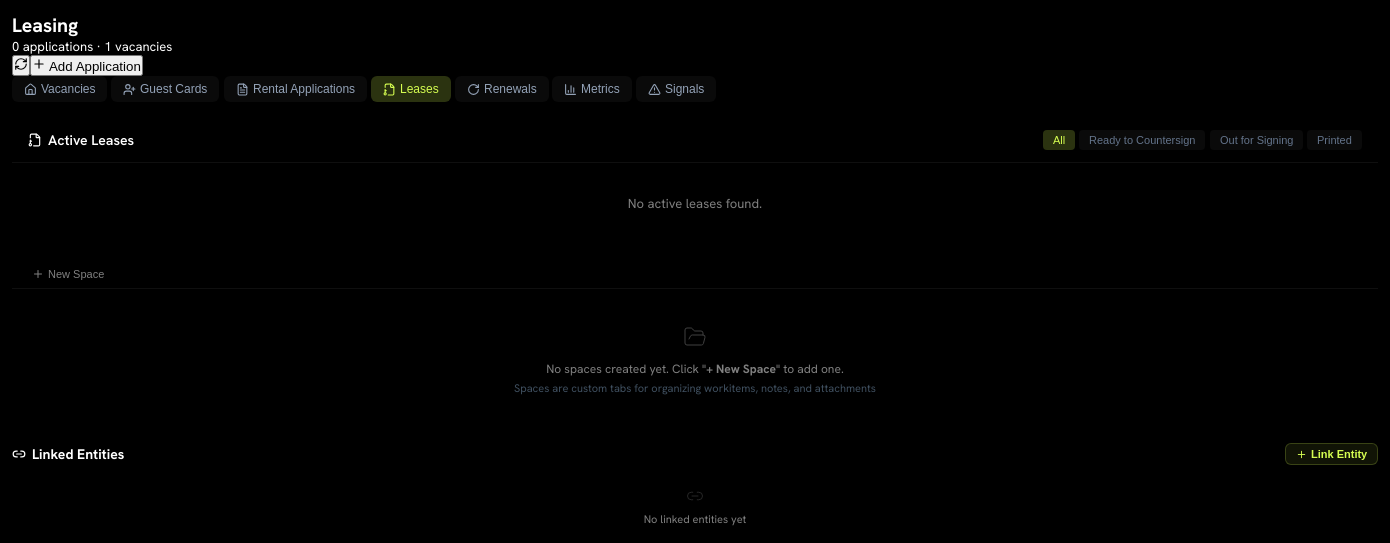
Scenario: LeasingModule · empty account → honest empty states, never the old hardcoded arrays › Vacancies: real vacant units render without the hardcoded "Posted" listing badge
Click the button "Vacancies" at (60, 89), box [12, 76, 108, 102]
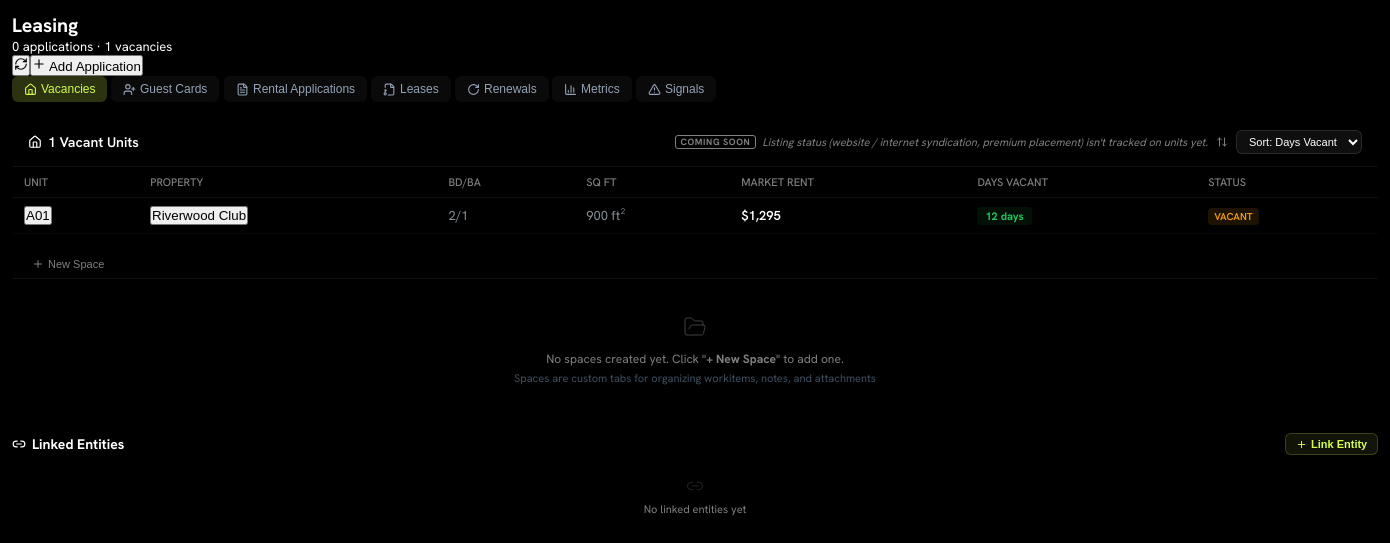
Expected: the button "A01" is shown, [24, 206, 52, 225]
Expected: the button "Riverwood Club" is shown, [150, 206, 248, 225]
Expected: the text "$1,295" is shown, [729, 198, 965, 234]
